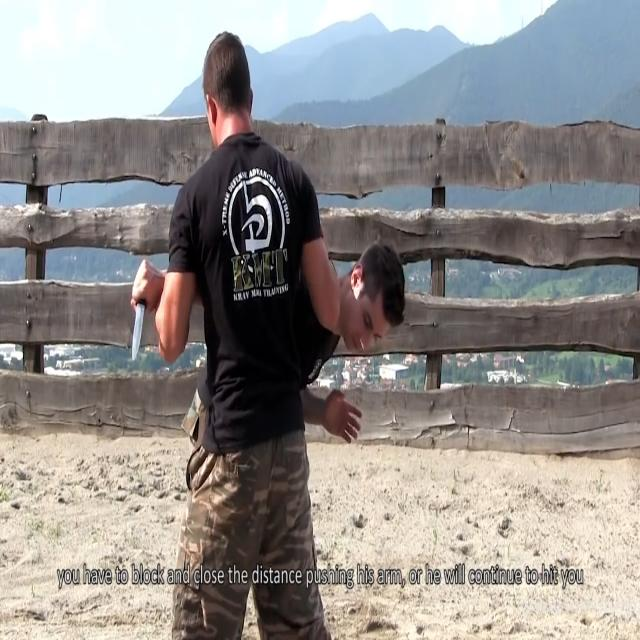knife: (130, 296, 150, 364)
